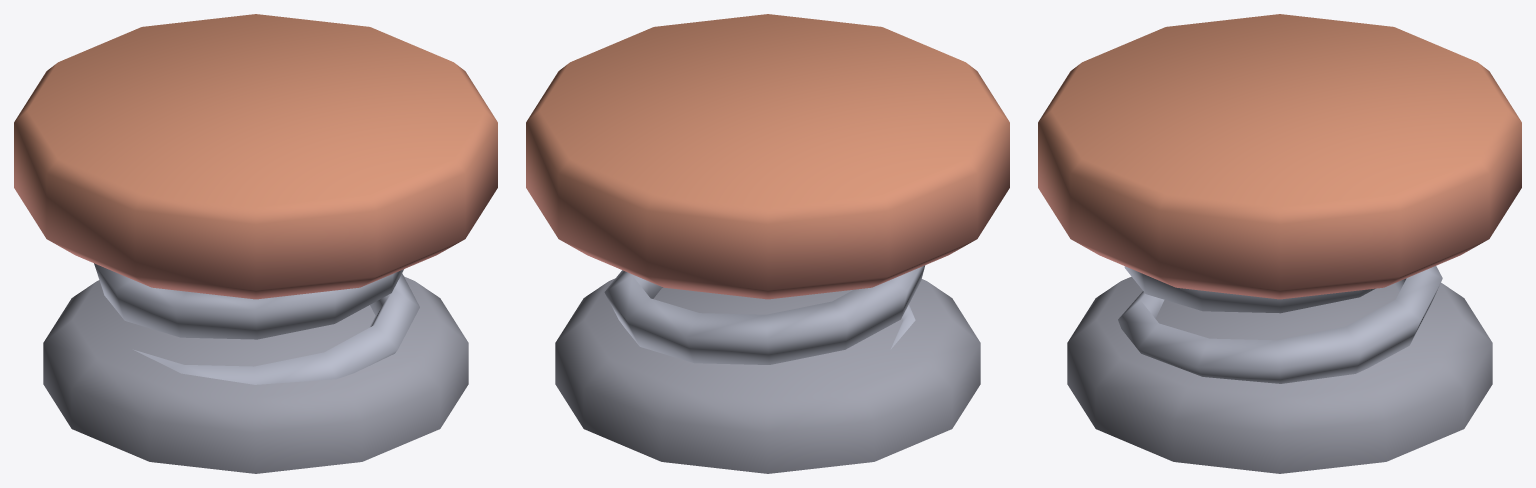
The model's file is bumper.glb.
3 views of the same model, side by side, from view 1: azimuth 30°, elevation 25°; view 2: azimuth 150°, elevation 25°; view 3: azimuth 270°, elevation 25° (orthographic).
Parts seen in each view (by area): view 1: bumper; view 2: bumper; view 3: bumper.
Part boxes in pixels (box(x1,y1,x2,y2)): bumper: box(14, 14, 497, 473); bumper: box(526, 14, 1009, 473); bumper: box(1038, 14, 1521, 473).
Size of the model in its own units: 0.75 by 0.4679 by 0.75.
